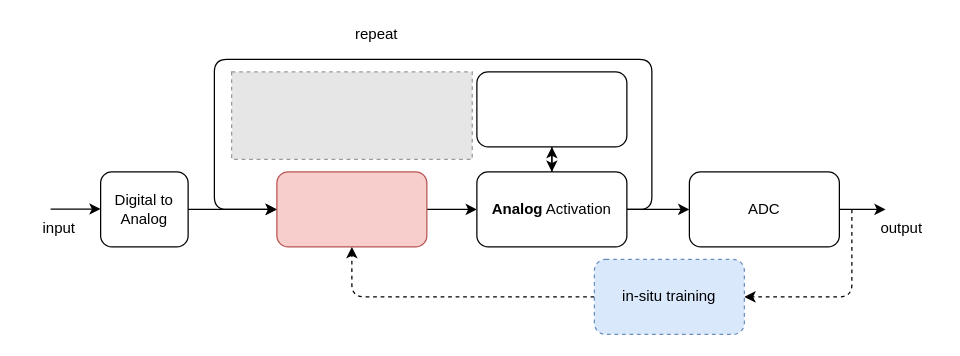
The diagram is 960 pixels wide and 356 high, and some of its shapes have lost their labels. Grey dashed boxes stand in for pictures. Here are the shapes that lost their labels. From the top down, the centre of each, then its label:
At pixel 551 109: "ADC to Digital Activation to DAC".
At pixel 351 209: "VMM Core".
